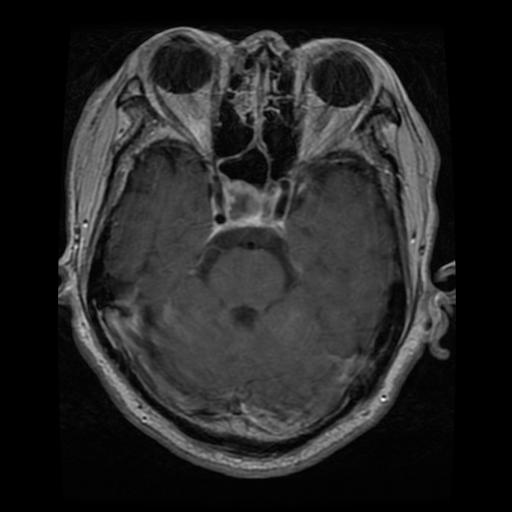Pituirity_tumour: (221, 181, 271, 223)
